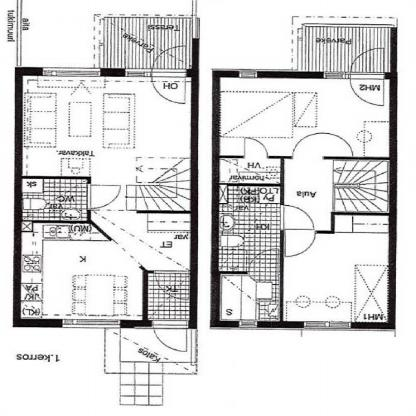door: (23, 75, 191, 318), (219, 76, 391, 232), (21, 223, 146, 320), (282, 215, 388, 321), (89, 209, 192, 272), (219, 184, 278, 272), (218, 272, 278, 320), (22, 179, 90, 221), (146, 271, 190, 319), (220, 157, 281, 185)
window: (349, 72, 384, 107), (154, 320, 190, 353), (151, 72, 186, 105), (282, 230, 316, 258), (280, 205, 317, 230), (86, 183, 121, 209), (250, 248, 280, 270), (243, 136, 269, 159)
zone: (62, 319, 121, 329), (44, 71, 102, 76), (304, 322, 351, 328), (322, 69, 347, 78), (238, 319, 258, 327), (126, 70, 147, 77), (240, 70, 257, 76)
